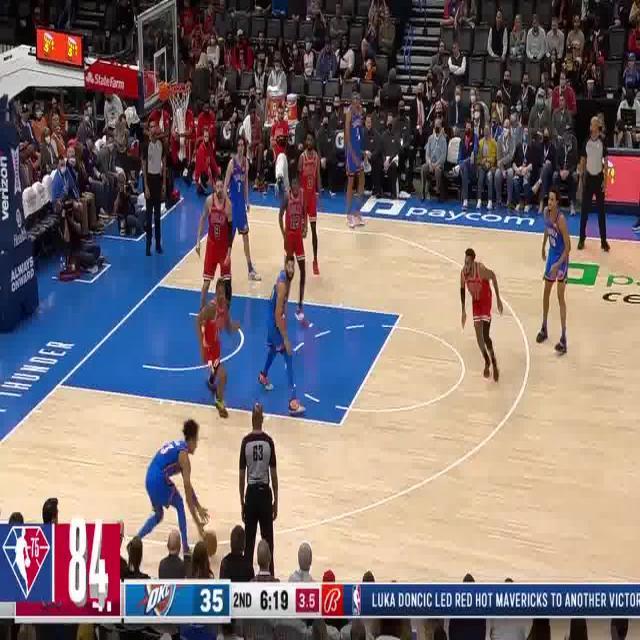ball-handler: (121, 415, 216, 573)
